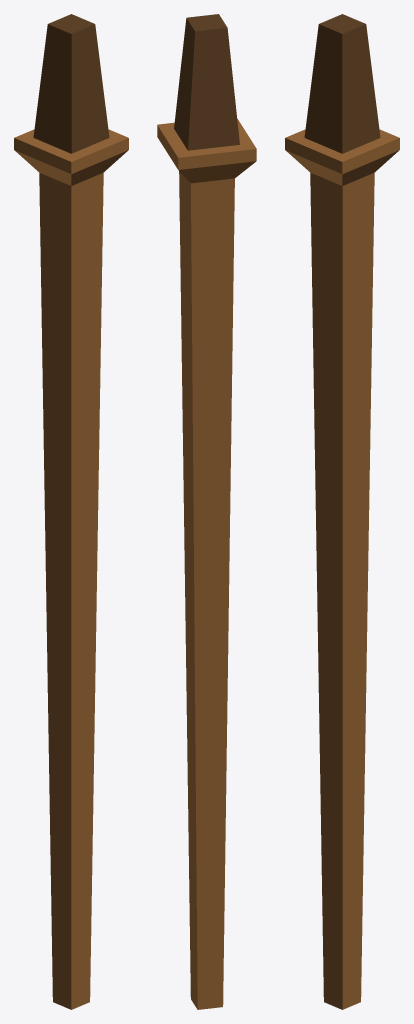
Rendered from TikiTorch.fbx.
The picture shows the model from 3 angles, left to right: view 1: azimuth 90°, elevation 25°; view 2: azimuth 150°, elevation 25°; view 3: azimuth 270°, elevation 25°; orthographic projection.
Visible parts, largest first — view 1: Cube; view 2: Cube; view 3: Cube.
Part boxes in pixels (<box>): Cube: <box>14,14,128,1009</box>; Cube: <box>157,14,256,1009</box>; Cube: <box>285,14,399,1009</box>.
Bounding box in the file's own units: 26.64 × 251 × 26.64.
